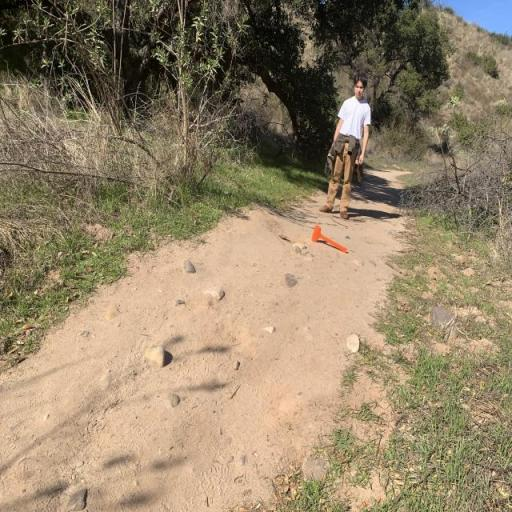mallet: (311, 224, 348, 254)
